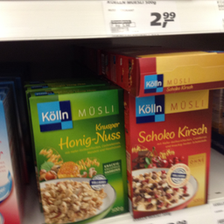cereal: (27, 88, 129, 224), (129, 93, 215, 219)
